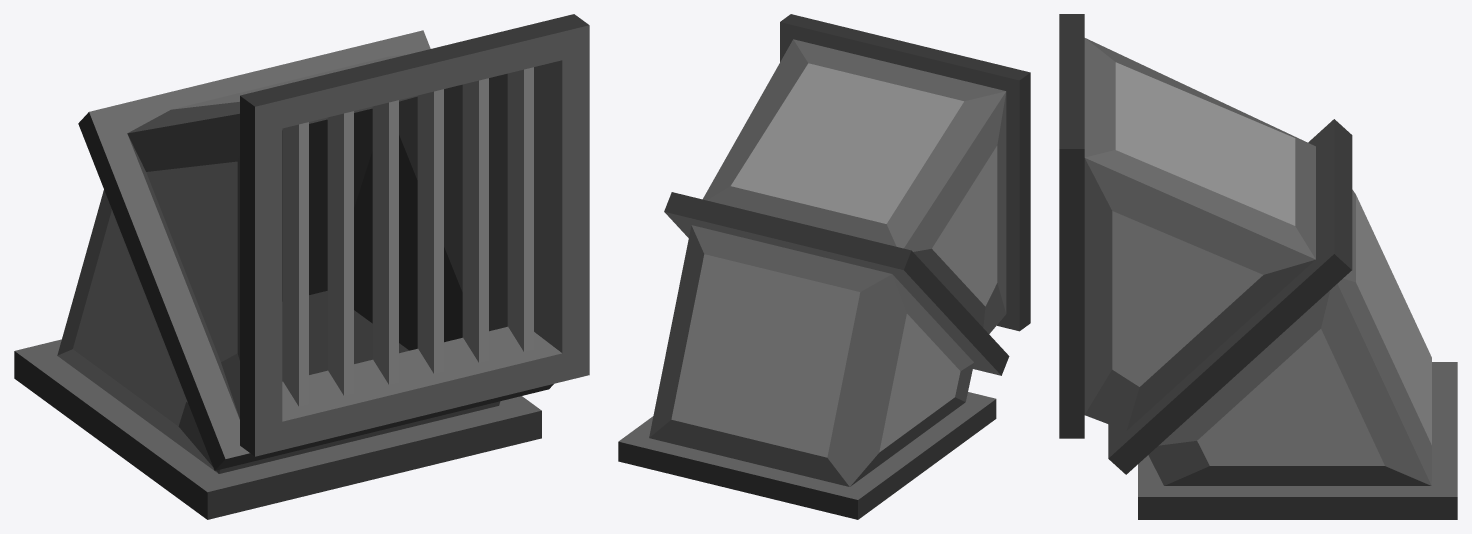
The model's file is Building_Roof_Vent.fbx.
3 renders of one model, left to right at view 1: azimuth 30°, elevation 25°; view 2: azimuth 150°, elevation 25°; view 3: azimuth 270°, elevation 25°, orthographic. The views are drawn at different scales.
Visible parts, largest first — view 1: Building_Roof_Vent; view 2: Building_Roof_Vent; view 3: Building_Roof_Vent.
Part boxes in pixels (x1,y1,x2,y2): Building_Roof_Vent: (14,14,589,519); Building_Roof_Vent: (618,14,1030,519); Building_Roof_Vent: (1059,14,1457,519).
Size of the model in its own units: 59.5 by 76.18 by 74.18.
